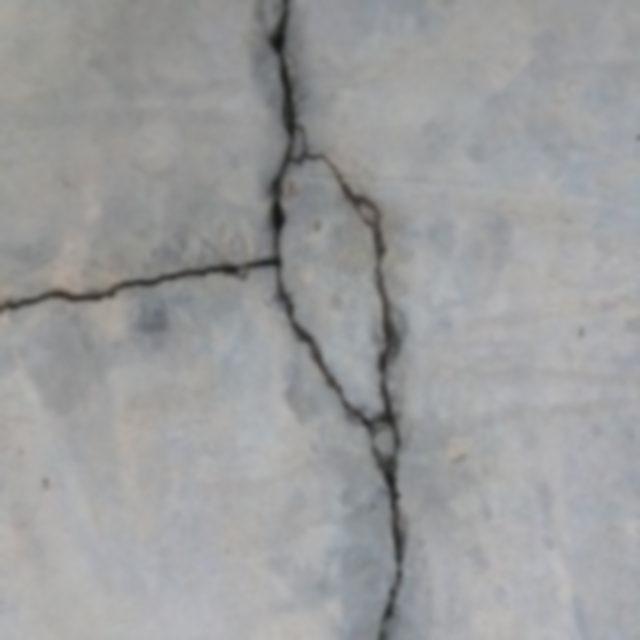SurfaceCrack: (6, 6, 436, 640)
